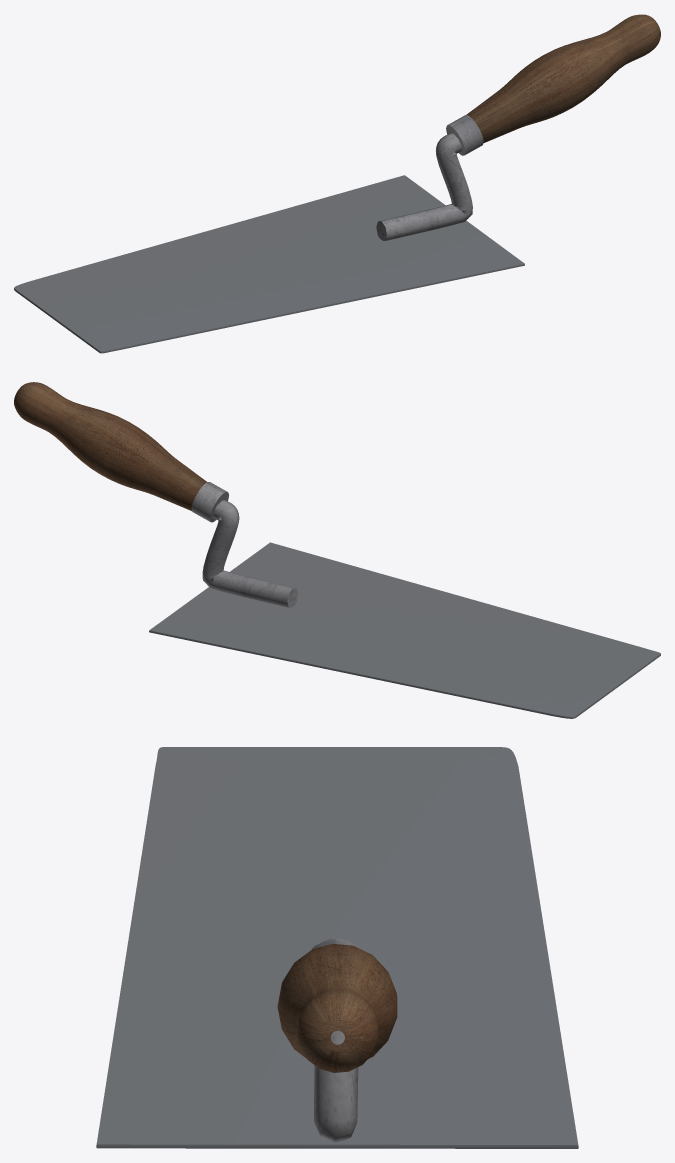
3 views of the same model, one above another, from view 1: azimuth 30°, elevation 25°; view 2: azimuth 150°, elevation 25°; view 3: azimuth 270°, elevation 25° (orthographic). The views are drawn at different scales.
Parts seen in each view (by area): view 1: Plate_6, Handle_0, HandleConnection_4, HandleRing_2; view 2: Plate_6, Handle_0, HandleConnection_4, HandleRing_2; view 3: Plate_6, Handle_0, HandleConnection_4.
Part boxes in pixels (x1=…): Plate_6: x1=14, y1=175, x2=524, y2=353; Handle_0: x1=466, y1=14, x2=660, y2=143; HandleConnection_4: x1=376, y1=133, x2=472, y2=240; HandleRing_2: x1=446, y1=115, x2=483, y2=155; Plate_6: x1=149, y1=542, x2=660, y2=718; Handle_0: x1=14, y1=382, x2=206, y2=510; HandleConnection_4: x1=202, y1=500, x2=298, y2=607; HandleRing_2: x1=191, y1=482, x2=228, y2=522; Plate_6: x1=96, y1=747, x2=578, y2=1148; Handle_0: x1=277, y1=943, x2=397, y2=1072; HandleConnection_4: x1=314, y1=1030, x2=358, y2=1142.
Size of the model in its own units: 0.2778 by 0.0715 by 0.0966.
Materials: 2 (2 with a texture image).
